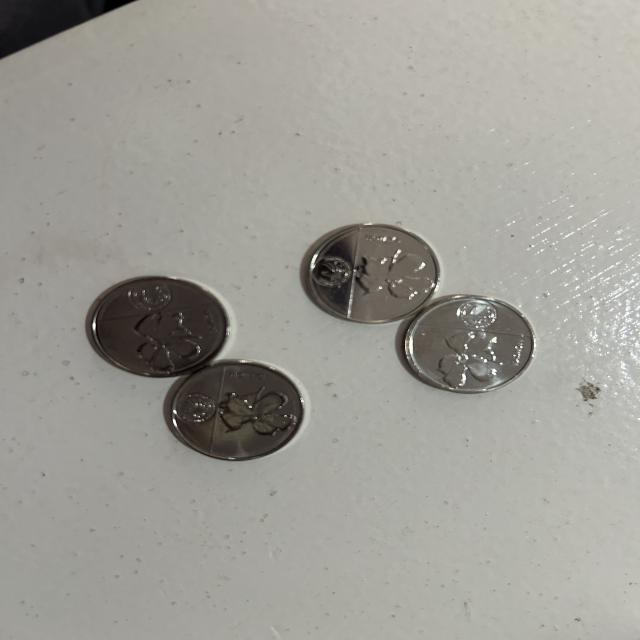25Cent_New_Back: (421, 326, 502, 394), (220, 383, 302, 442), (126, 311, 210, 368), (352, 244, 425, 303)
